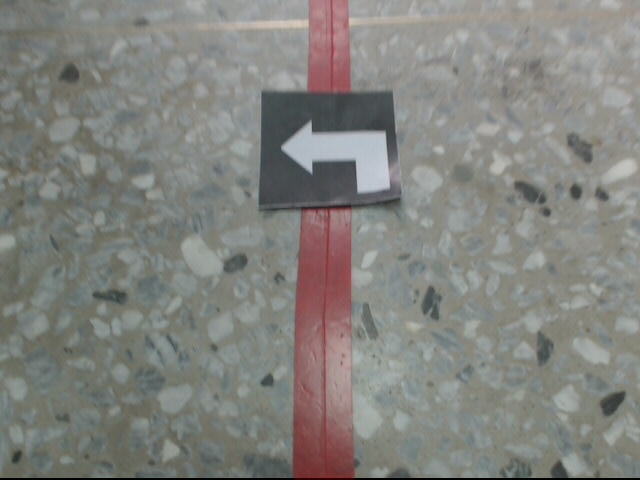left: (260, 89, 402, 211)
